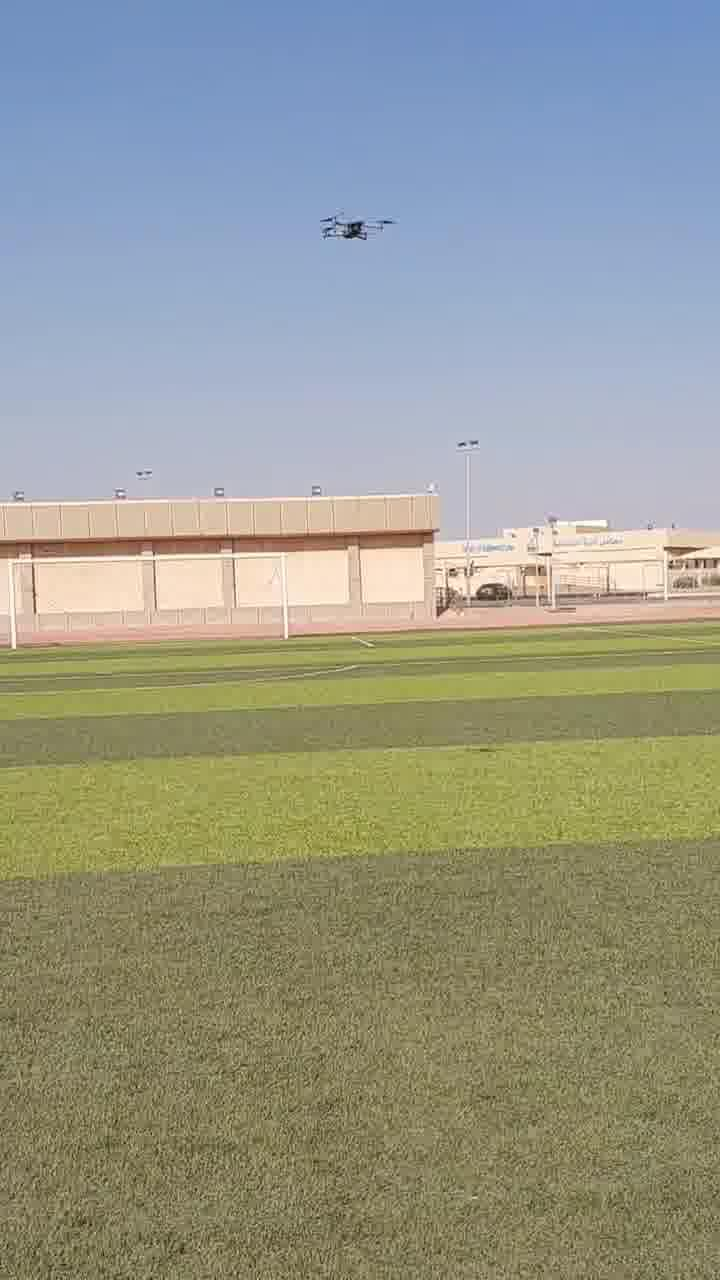drone: (311, 203, 400, 255)
